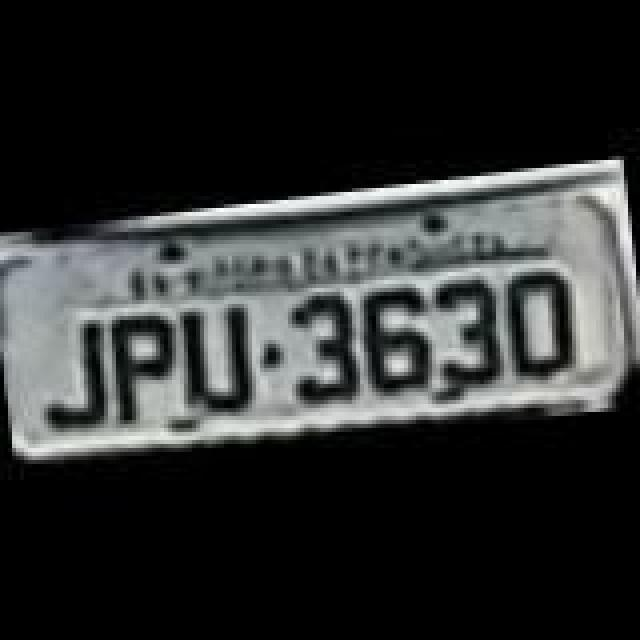3: (288, 288, 368, 408), (428, 276, 508, 396)
6: (354, 280, 430, 400)
J: (34, 318, 110, 434)
O: (496, 262, 584, 378)
P: (106, 310, 182, 426)
U: (178, 298, 262, 422)
